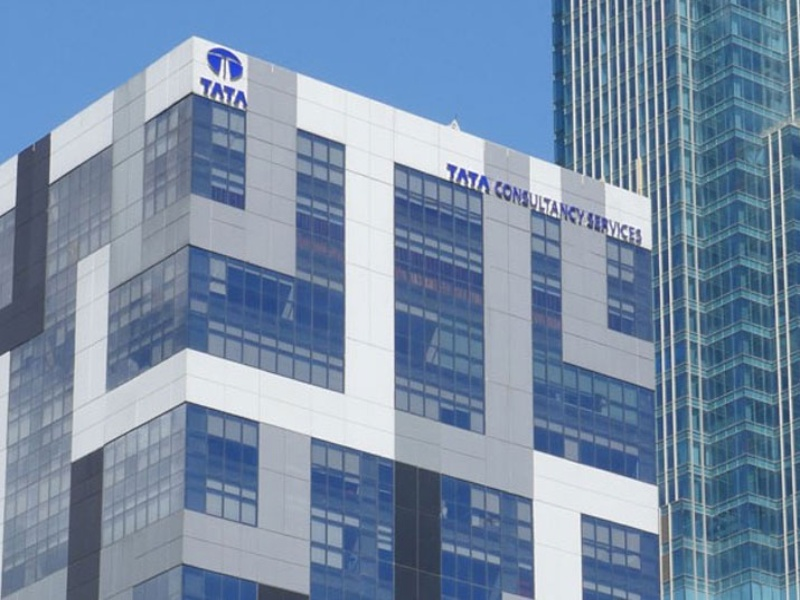tcs: (205, 43, 250, 86)
